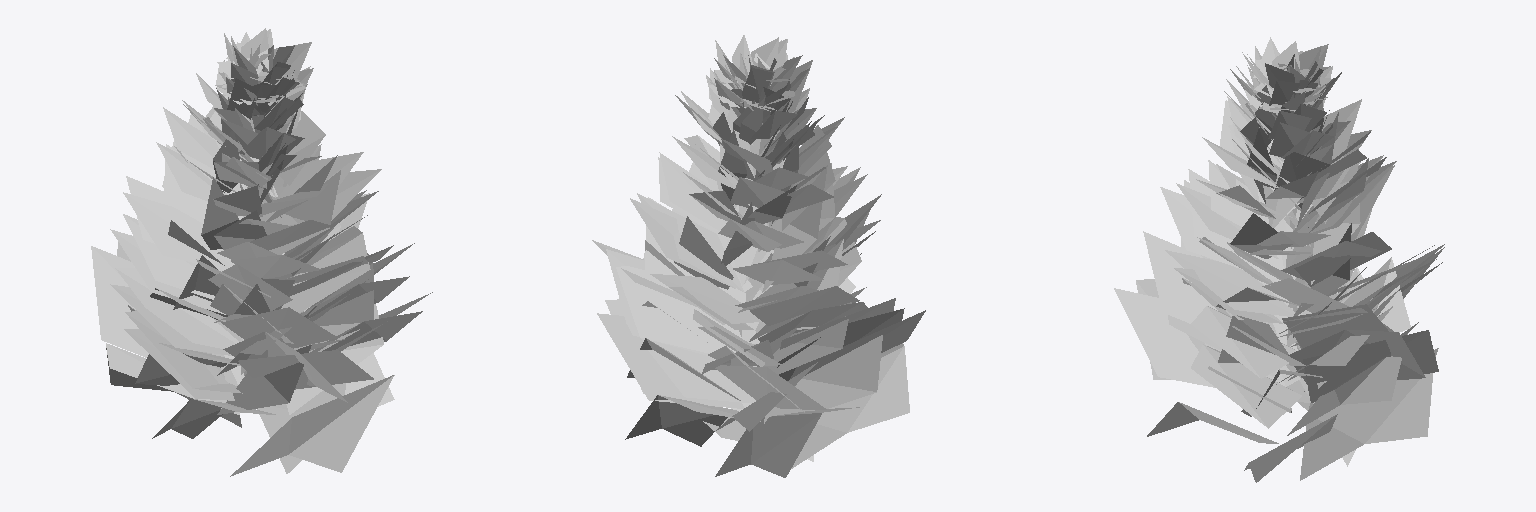
Rendered from red_sprut.obj.
3 views of the same model, side by side, from view 1: azimuth 30°, elevation 25°; view 2: azimuth 150°, elevation 25°; view 3: azimuth 270°, elevation 25° (orthographic).
Visible parts, largest first — view 1: Red_Spru; view 2: Red_Spru; view 3: Red_Spru.
Part boxes in pixels (bbox=[...]): Red_Spru: bbox=[91, 28, 432, 476]; Red_Spru: bbox=[592, 35, 925, 477]; Red_Spru: bbox=[1114, 37, 1444, 482].
Bounding box in the file's own units: 0.9135 × 1.25 × 0.9049.